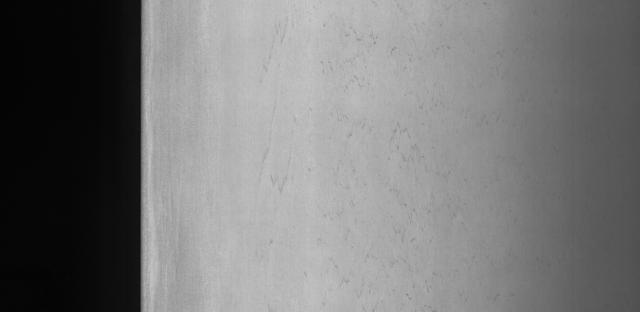silk_spot: (247, 24, 517, 294)
